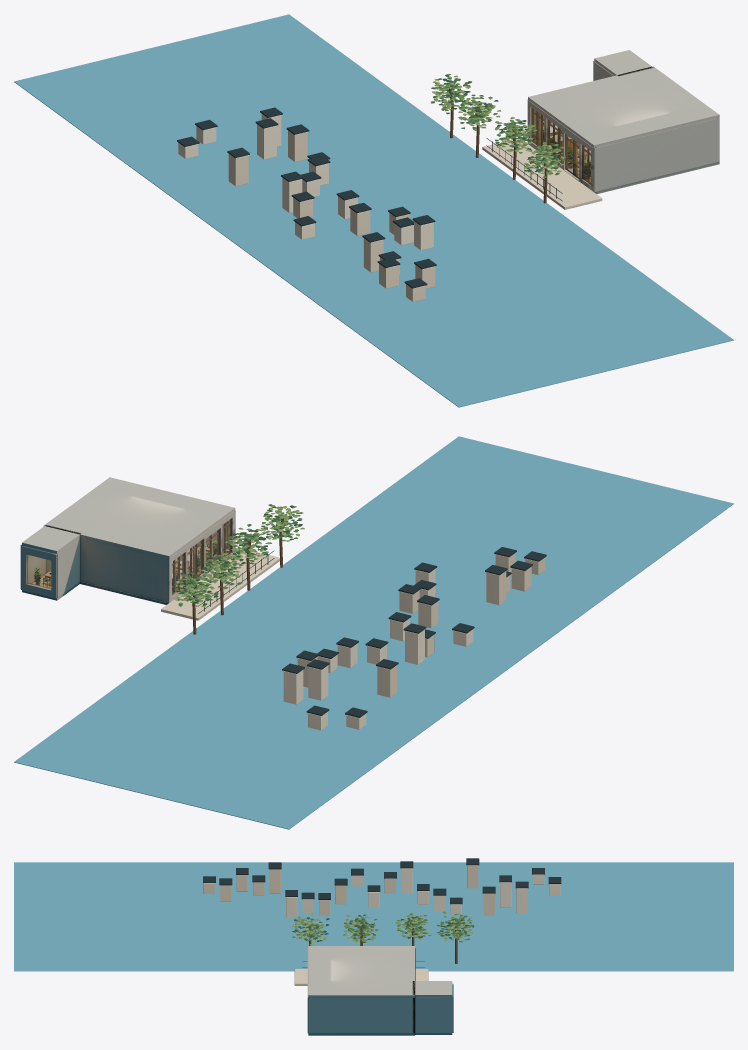
Rendered from room-low.glb.
The picture shows the model from 3 angles, top to bottom: view 1: azimuth 30°, elevation 25°; view 2: azimuth 150°, elevation 25°; view 3: azimuth 270°, elevation 25°; orthographic projection. The views are drawn at different scales.
Visible parts, largest first — view 1: exterior sea blue, baked-shell, exterior ivory glaze, exterior warm plaster, exterior blue black metal, exterior ivory stone countertop, glass, baked-interior, exterior leaf 0, exterior leaf 1, exterior leaf 2, exterior leaf 3 (+1 smaller); view 2: exterior sea blue, baked-shell, exterior ivory glaze, exterior warm plaster, exterior blue black metal, exterior ivory stone countertop, glass, baked-interior, exterior leaf 4, exterior leaf 0, exterior leaf 3, exterior leaf 2 (+1 smaller); view 3: exterior sea blue, baked-shell, exterior ivory glaze, exterior blue black metal, exterior warm plaster, exterior leaf 1, exterior leaf 4, exterior leaf 0, exterior leaf 3, exterior leaf 2, exterior ivory stone countertop.
Boxes of the visible parts, bbox=[...] form: exterior sea blue: bbox=[14, 14, 733, 407]; baked-shell: bbox=[527, 50, 719, 193]; exterior ivory glaze: bbox=[178, 114, 433, 250]; exterior warm plaster: bbox=[228, 130, 435, 301]; exterior blue black metal: bbox=[177, 107, 562, 288]; exterior ivory stone countertop: bbox=[482, 139, 602, 209]; glass: bbox=[532, 108, 590, 183]; baked-interior: bbox=[531, 108, 590, 184]; exterior leaf 0: bbox=[433, 76, 565, 177]; exterior leaf 1: bbox=[434, 74, 565, 170]; exterior leaf 2: bbox=[430, 75, 564, 175]; exterior leaf 3: bbox=[433, 81, 563, 174]; exterior sea blue: bbox=[14, 436, 733, 829]; baked-shell: bbox=[20, 477, 235, 604]; exterior ivory glaze: bbox=[283, 568, 473, 730]; exterior warm plaster: bbox=[297, 553, 545, 697]; exterior blue black metal: bbox=[198, 547, 546, 717]; exterior ivory stone countertop: bbox=[161, 552, 279, 620]; glass: bbox=[27, 519, 230, 594]; baked-interior: bbox=[27, 519, 231, 595]; exterior leaf 4: bbox=[176, 504, 302, 605]; exterior leaf 0: bbox=[174, 510, 298, 606]; exterior leaf 3: bbox=[176, 505, 304, 606]; exterior leaf 2: bbox=[174, 506, 299, 606]; exterior sea blue: bbox=[14, 862, 733, 971]; baked-shell: bbox=[307, 946, 453, 1035]; exterior ivory glaze: bbox=[286, 868, 560, 917]; exterior blue black metal: bbox=[203, 858, 561, 967]; exterior warm plaster: bbox=[203, 865, 494, 915]; exterior leaf 1: bbox=[294, 911, 470, 941]; exterior leaf 4: bbox=[292, 914, 474, 942]; exterior leaf 0: bbox=[292, 914, 473, 942]; exterior leaf 3: bbox=[293, 915, 472, 942]; exterior leaf 2: bbox=[292, 913, 472, 945]; exterior ivory stone countertop: bbox=[294, 969, 428, 985].
Size of what is drawn, in the model's own units: 40.22 by 5.34 by 70.
18 materials, 3 textured.
